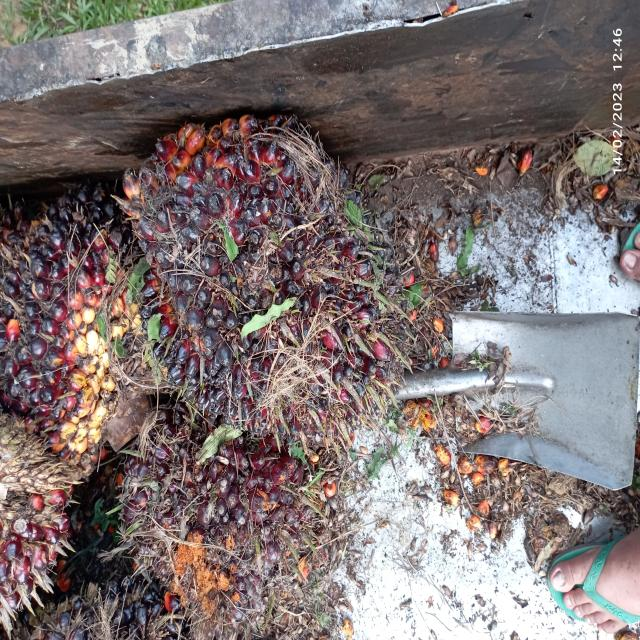fraksi 00: (0, 139, 186, 503)
fraksi 1: (92, 85, 411, 412), (106, 373, 336, 615)
